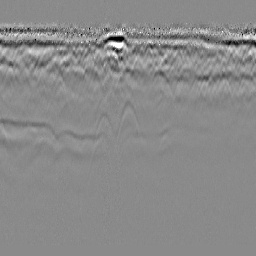cavity: (115, 97, 141, 140)
